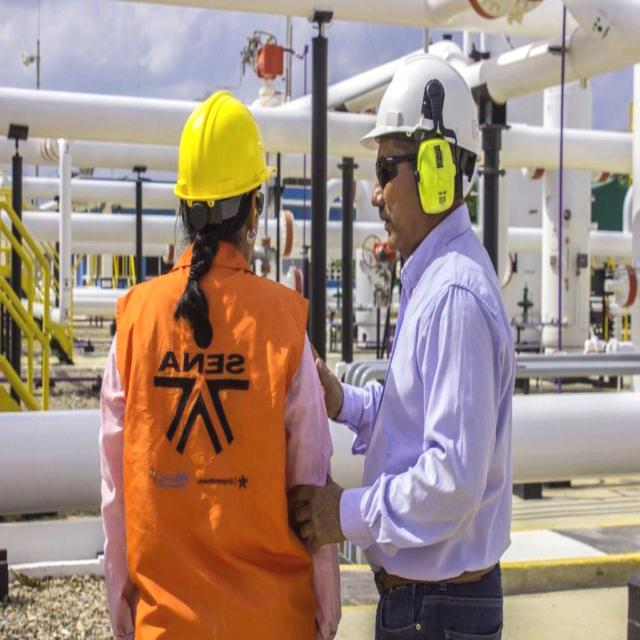face_nomask: (374, 122, 428, 249)
glasses: (372, 153, 403, 191)
hand_noglove: (285, 473, 350, 556), (294, 349, 346, 419)
head_helmet: (357, 53, 481, 151), (174, 91, 272, 201)
person: (101, 123, 318, 640), (362, 65, 514, 640)
